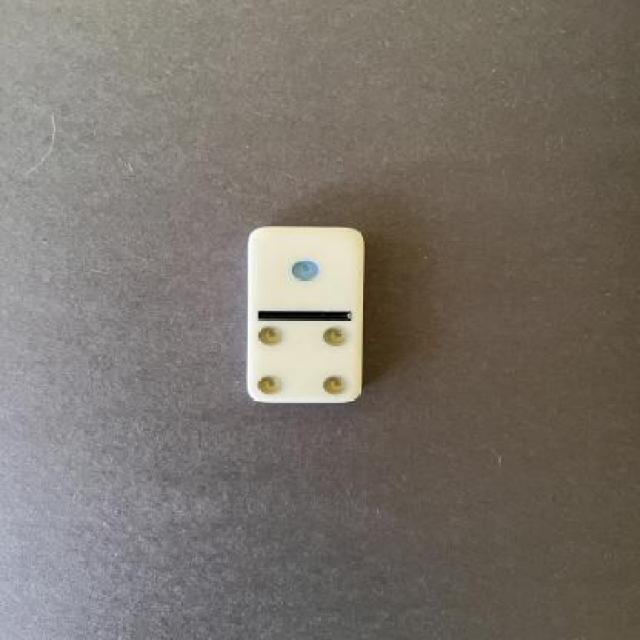domino: (243, 225, 366, 406)
